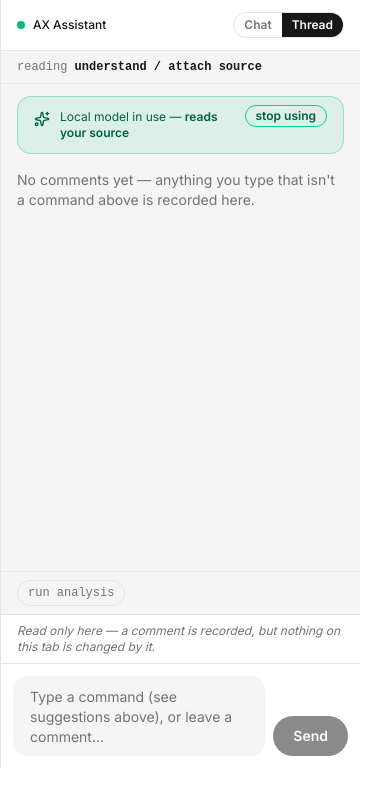
Scenario: AxAssistantPanel › stop using / use it › switches to the keyword analysis, and says the model is still there
The width and height of the screenshot is (377, 785).
Click the button "stop using" at (286,116), box [244,105,327,127]
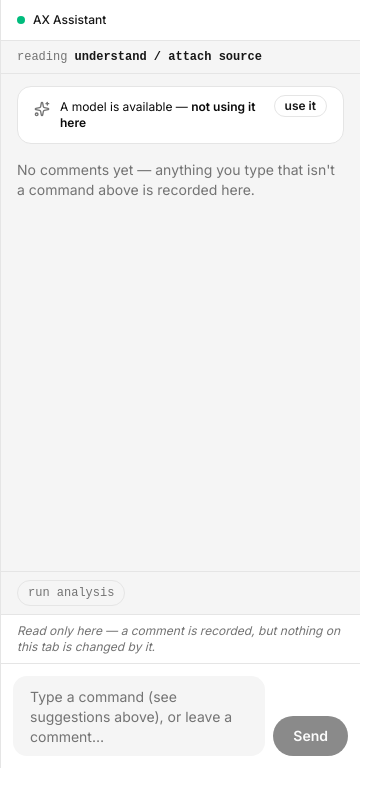
Now the text "A model is available — not using it here" is shown, box [60,99,264,131]
Now the text "not using it here" is shown, box [60,99,255,130]
Now the button "use it" is shown, box [274,95,327,117]
